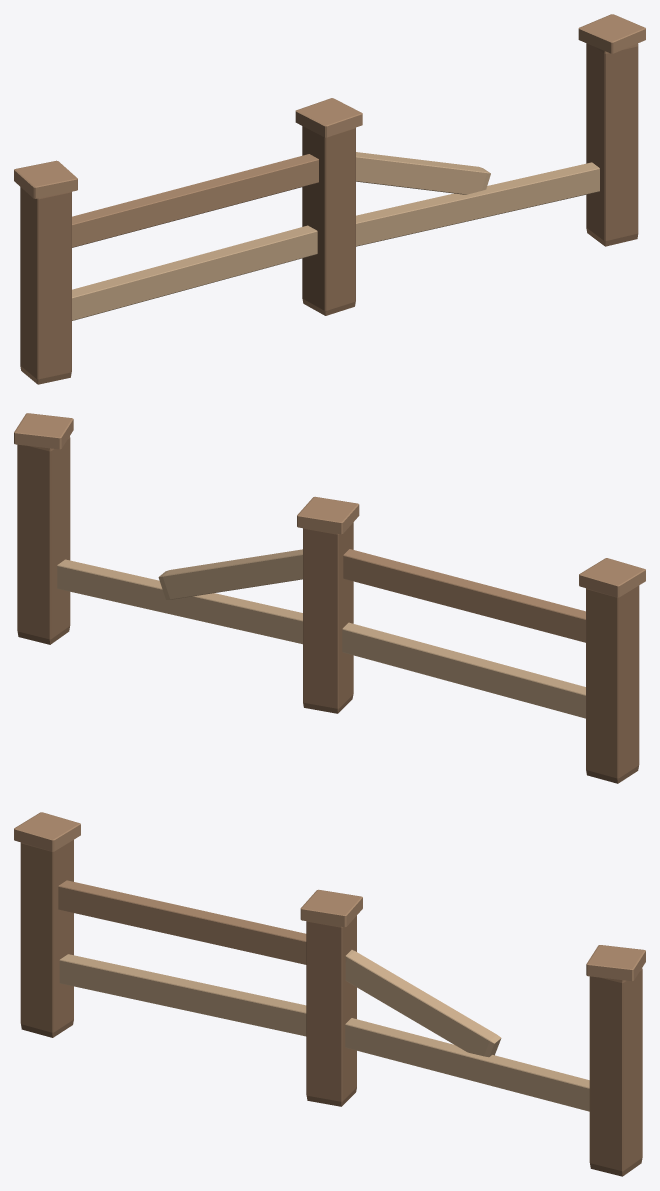
Rendered from fence_wood_broken.glb.
3 renders of one model, top to bottom at view 1: azimuth 30°, elevation 25°; view 2: azimuth 150°, elevation 25°; view 3: azimuth 330°, elevation 25°, orthographic.
Parts seen in each view (by area): view 1: fence_wood_broken; view 2: fence_wood_broken; view 3: fence_wood_broken.
Boxes of the visible parts, bbox=[...] form: fence_wood_broken: bbox=[14, 14, 645, 384]; fence_wood_broken: bbox=[14, 413, 645, 783]; fence_wood_broken: bbox=[14, 812, 645, 1176].
Size of the model in its own units: 4.34 by 1.4 by 0.3622.
